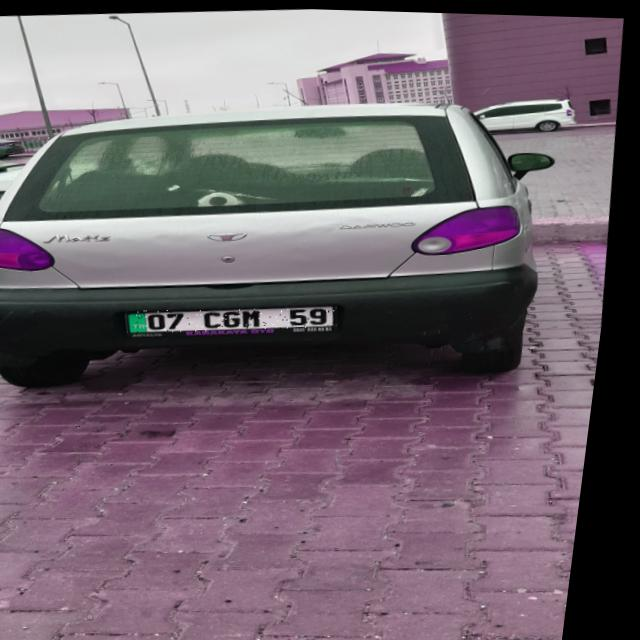license_plate: (133, 299, 344, 337)
